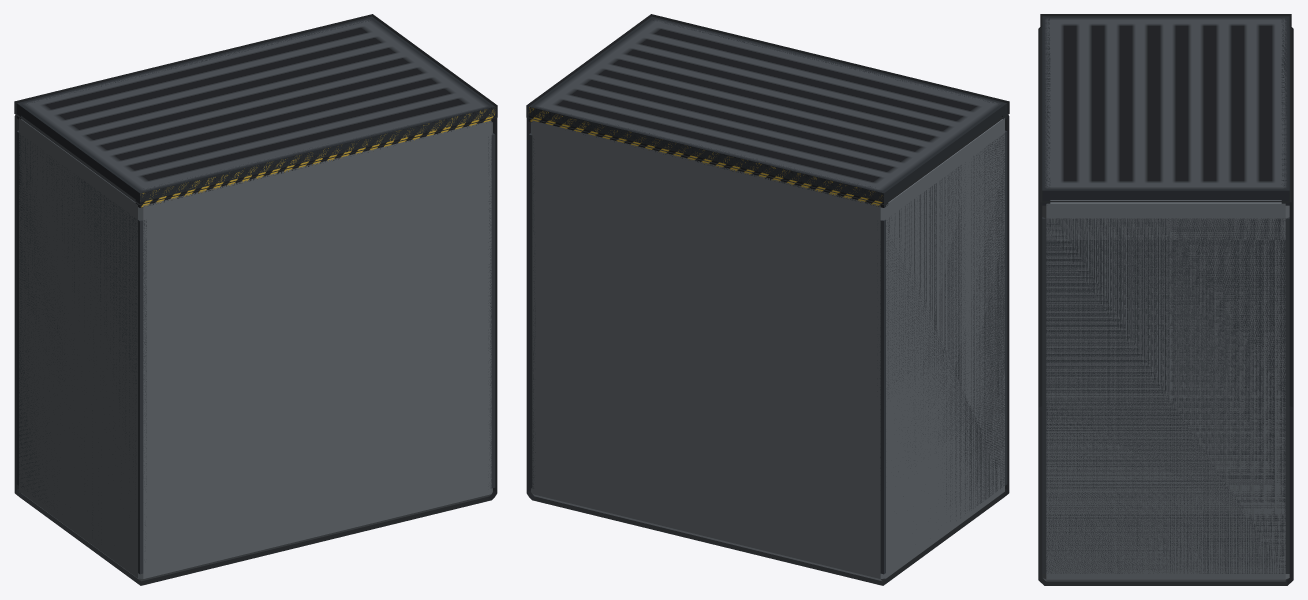
The model's file is SM_StairStep_3.glb.
3 renders of one model, left to right at view 1: azimuth 30°, elevation 25°; view 2: azimuth 150°, elevation 25°; view 3: azimuth 270°, elevation 25°, orthographic.
Visible parts, largest first — view 1: SM_StairStep_3, SM_StairStep_3_Outline; view 2: SM_StairStep_3, SM_StairStep_3_Outline; view 3: SM_StairStep_3, SM_StairStep_3_Outline.
Boxes of the visible parts, x1,y1,x2,y2 form: SM_StairStep_3: (16, 16, 495, 581); SM_StairStep_3_Outline: (14, 14, 497, 585); SM_StairStep_3: (528, 16, 1007, 581); SM_StairStep_3_Outline: (526, 14, 1009, 585); SM_StairStep_3: (1042, 16, 1289, 581); SM_StairStep_3_Outline: (1038, 14, 1293, 585).
Size of the model in its own units: 2.04 by 2.13 by 1.24.
2 materials, 1 textured.
